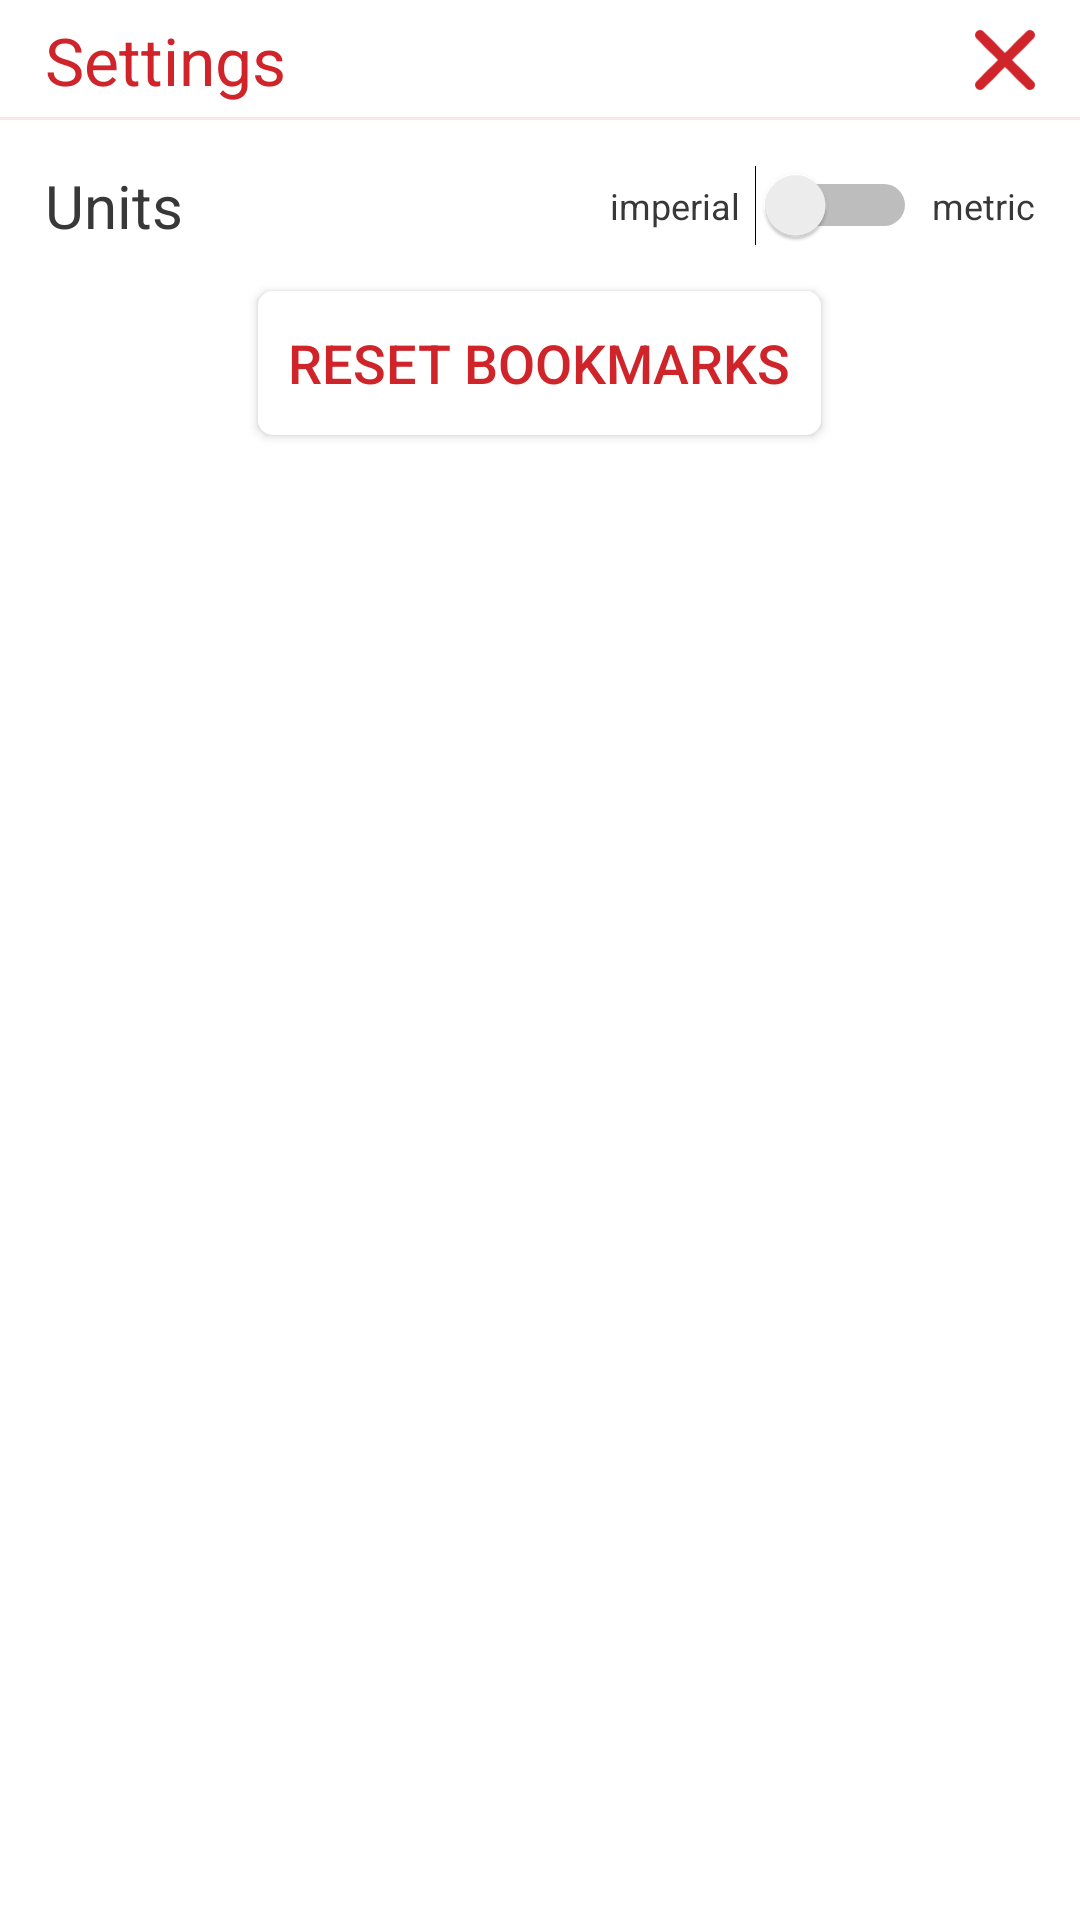

Where icons sit on this 1080 × 1920 app screen, as rect(x1, y1, x2, y2):
close: rect(975, 30, 1035, 90)
